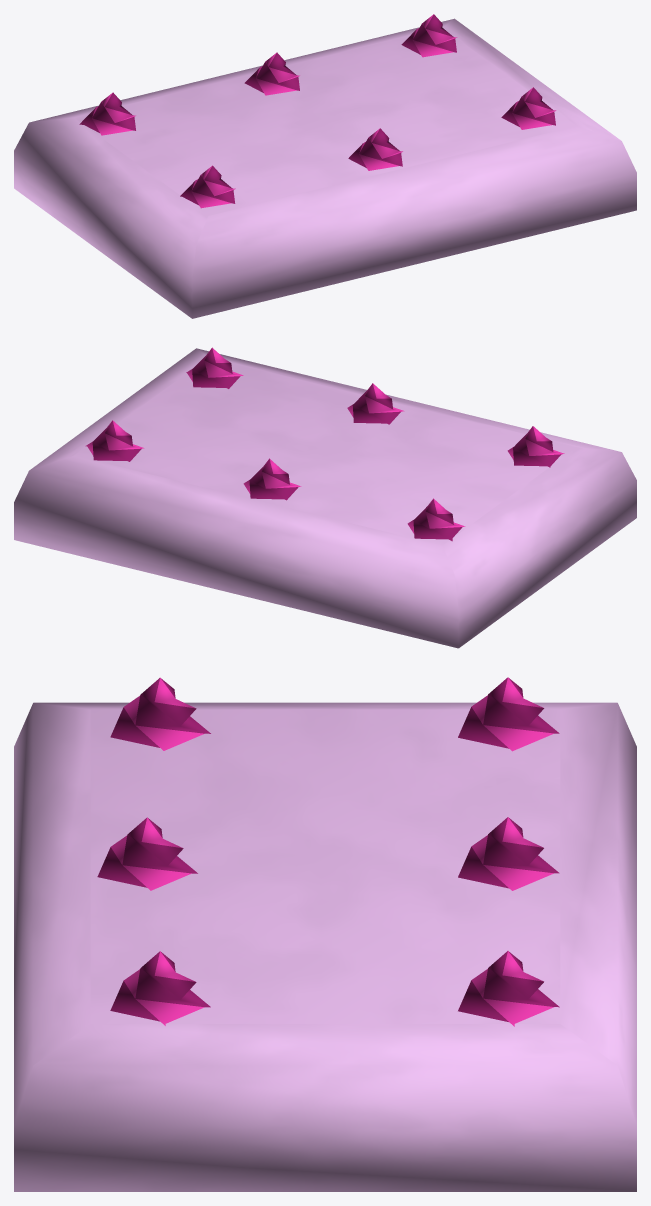
Rendered from Sheet_Cake_A_4.FBX.
3 renders of one model, top to bottom at view 1: azimuth 30°, elevation 25°; view 2: azimuth 150°, elevation 25°; view 3: azimuth 270°, elevation 25°, orthographic. The views are drawn at different scales.
Parts seen in each view (by area): view 1: Sheet Cake; view 2: Sheet Cake; view 3: Sheet Cake.
Part boxes in pixels (<box>): Sheet Cake: <box>14,14,636,318</box>; Sheet Cake: <box>14,347,636,648</box>; Sheet Cake: <box>14,677,636,1191</box>.
Bounding box in the file's own units: 180 × 41.76 × 125.
